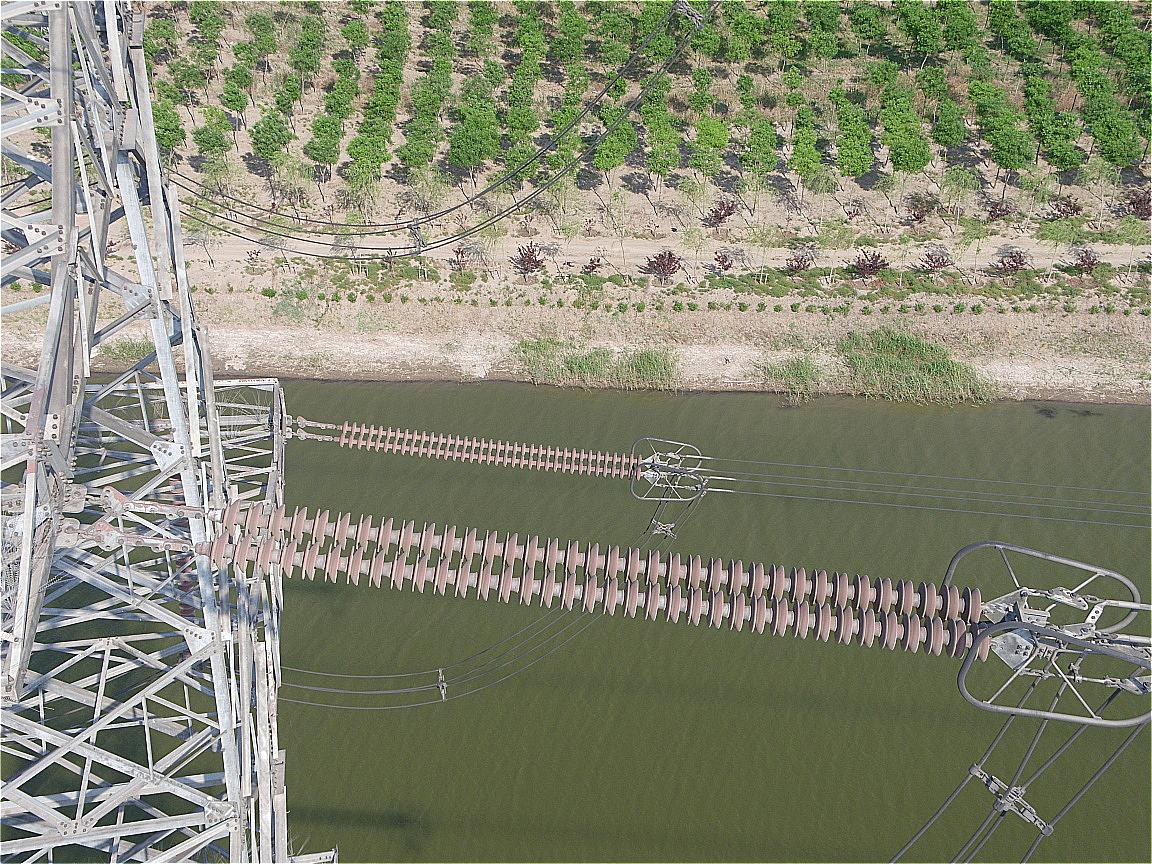insultor1: (338, 422, 645, 483)
insultor2: (211, 500, 995, 664)
